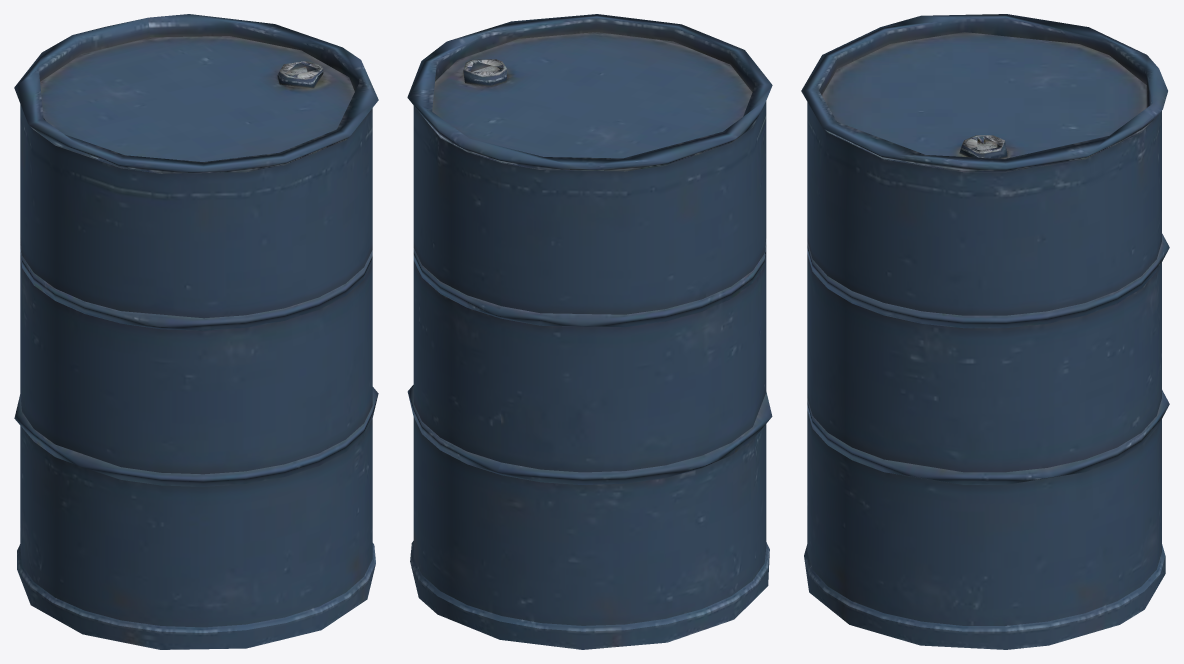
Rendered from barrel3.glb.
The picture shows the model from 3 angles, left to right: view 1: azimuth 30°, elevation 25°; view 2: azimuth 150°, elevation 25°; view 3: azimuth 270°, elevation 25°; orthographic projection.
Visible parts, largest first — view 1: barrel_03; view 2: barrel_03; view 3: barrel_03.
Boxes of the visible parts, <box> form: barrel_03: <box>14,14,378,649</box>; barrel_03: <box>407,14,772,649</box>; barrel_03: <box>801,14,1169,649</box>.
Bounding box in the file's own units: 0.6285 × 0.9305 × 0.6359.
Materials: 1 (1 with a texture image).
